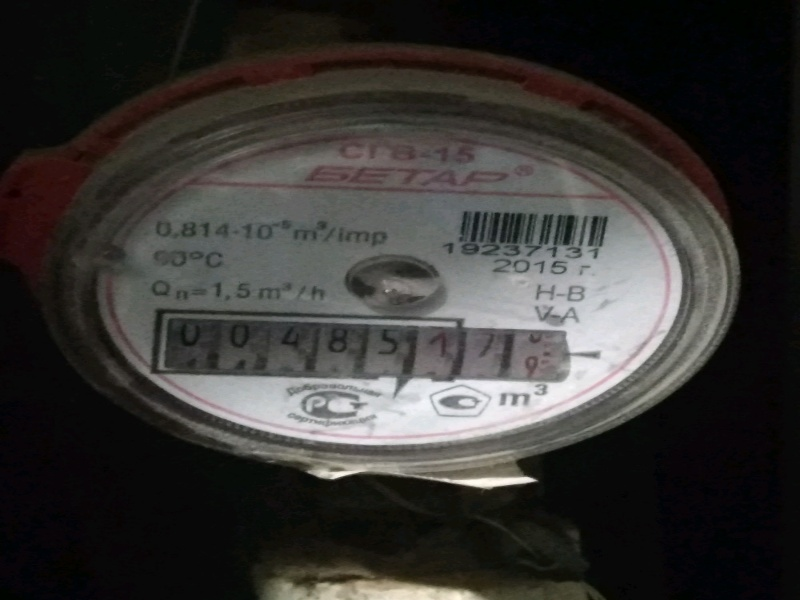meter: (143, 314, 560, 385)
